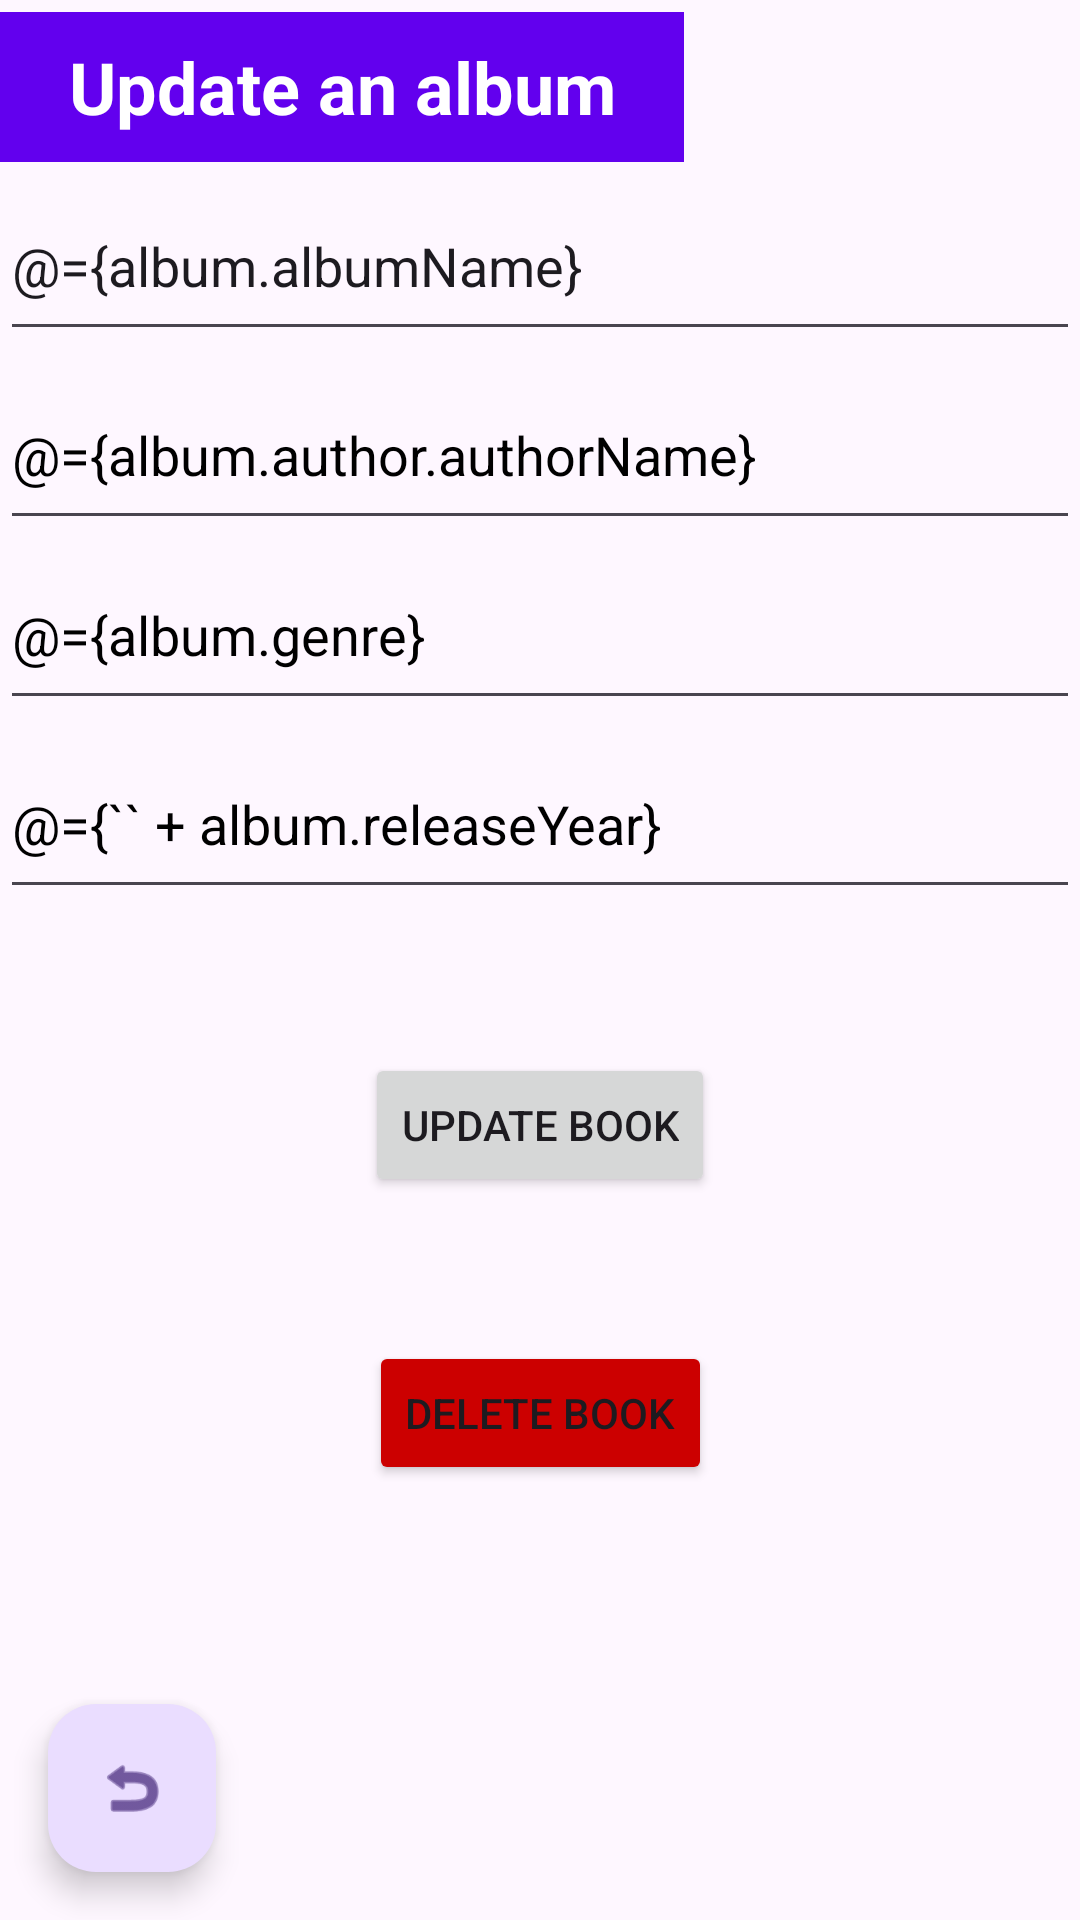

Icons on this 1080px x 1920px Android screen, each with the point to tap as point (x, y):
revert: point (132, 1788)
